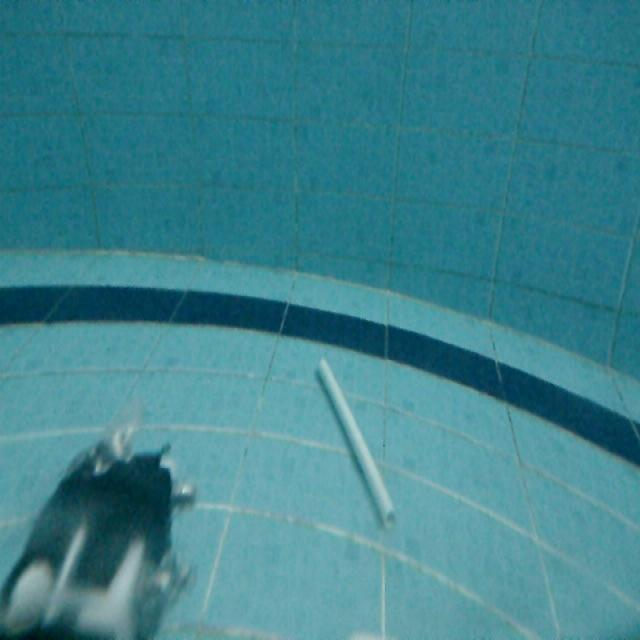Cube: (314, 356, 401, 530)
